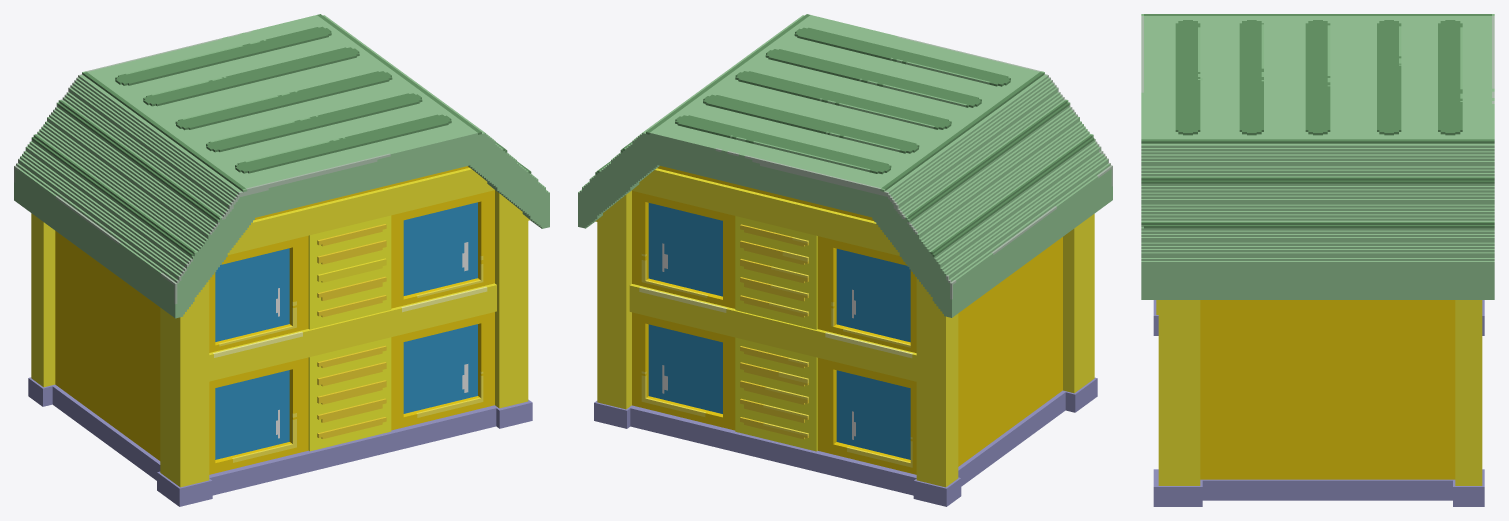
The model's file is saffron-house-1.obj.
3 views of the same model, side by side, from view 1: azimuth 30°, elevation 25°; view 2: azimuth 150°, elevation 25°; view 3: azimuth 270°, elevation 25° (orthographic). The views are drawn at different scales.
Size of the model in its own units: 19.3 by 15.2 by 14.4.
Materials: 1 (1 with a texture image).
